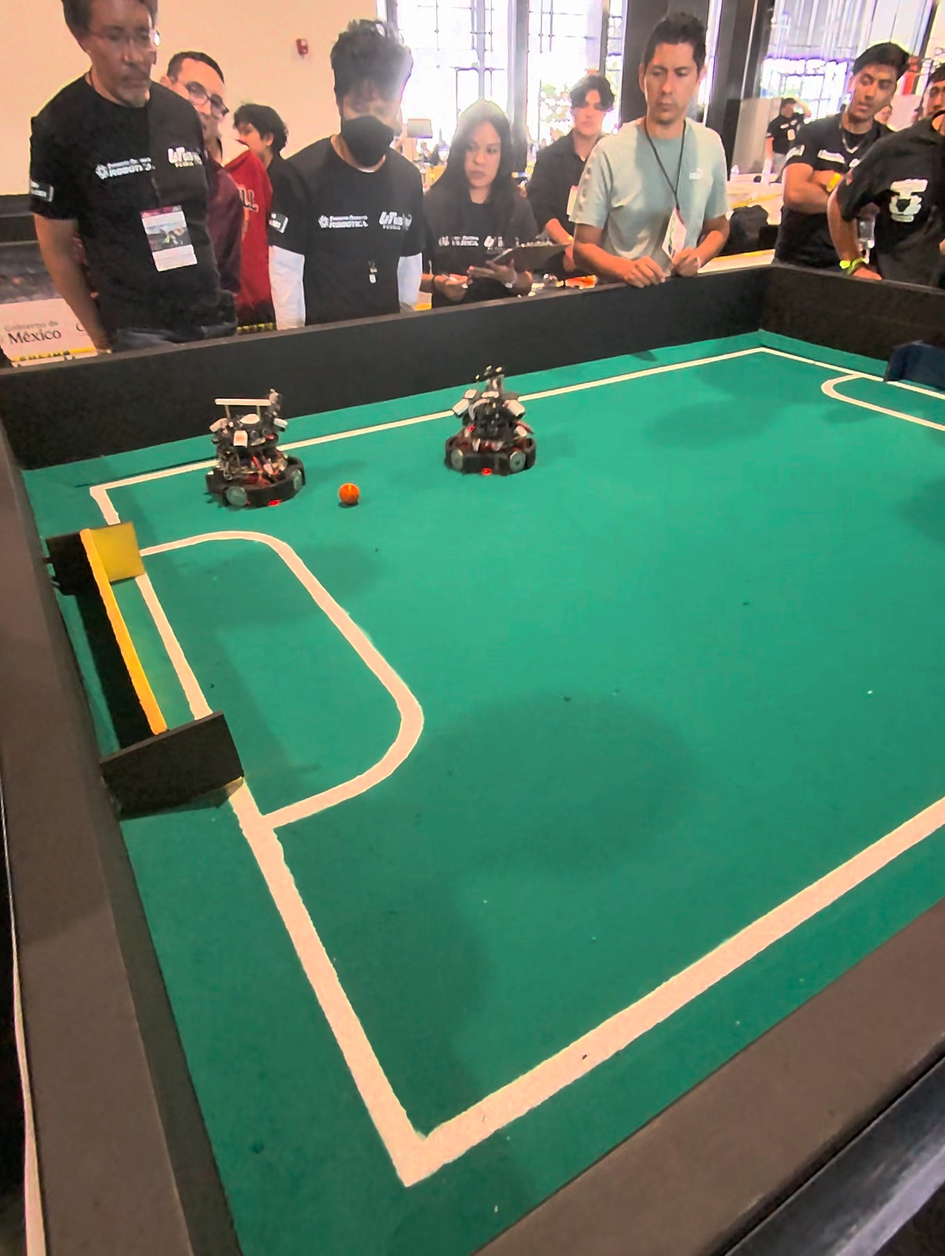Robot: (207, 390, 307, 516), (439, 364, 539, 482)
pelota: (340, 482, 362, 505)
